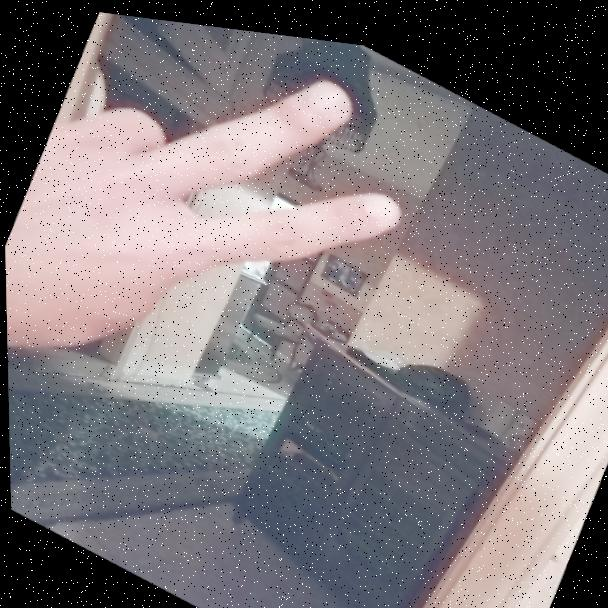two: (0, 0, 453, 487)
